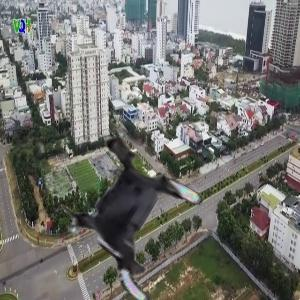drone: (52, 138, 210, 296)
